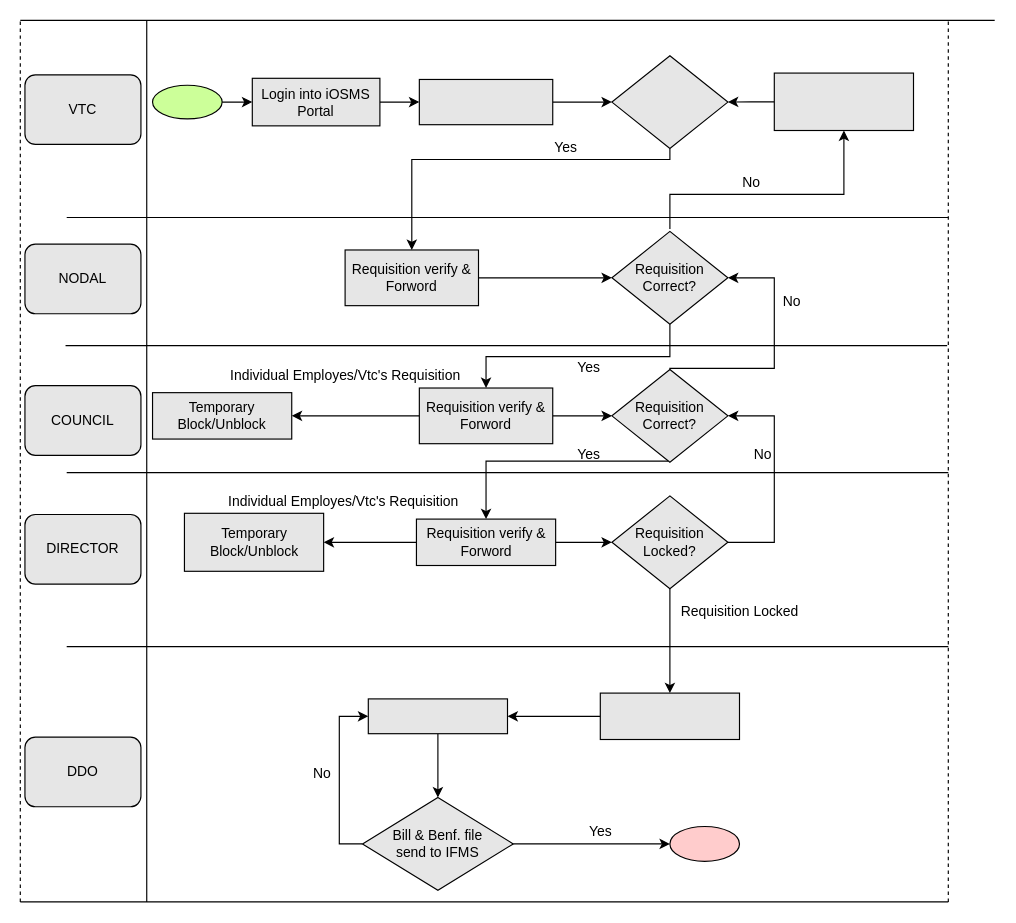
This 1016x923 diagram has some shape labels left out. Each missing label, with the centre of its shape:
"Bill Generation" goes at point (669, 716).
"End" goes at point (704, 843).
"IFMS Integration" goes at point (437, 716).
"Requisition Edit" goes at point (843, 101).
"Requisition Finalize?" goes at point (669, 101).
"Requisition Submission" goes at point (485, 101).
"Start" goes at point (186, 101).
